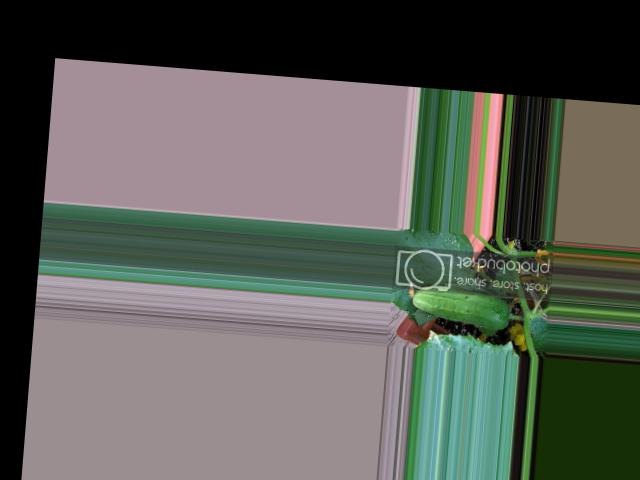cucumber: (409, 283, 510, 330)
